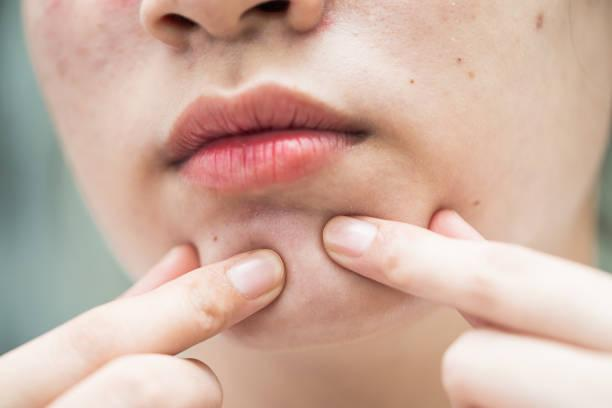Dry-Skin: (94, 17, 230, 100), (461, 22, 564, 114), (483, 147, 557, 237), (414, 20, 467, 112), (51, 27, 107, 111), (272, 242, 352, 271)
